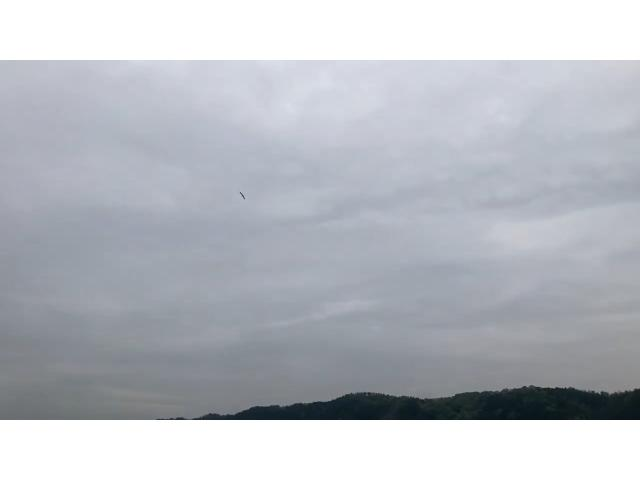Anti-Drone: (234, 189, 256, 205)
